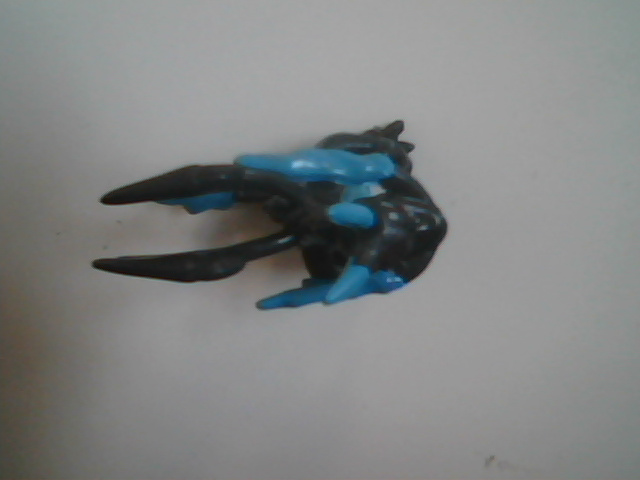charizard: (95, 51, 468, 419)
